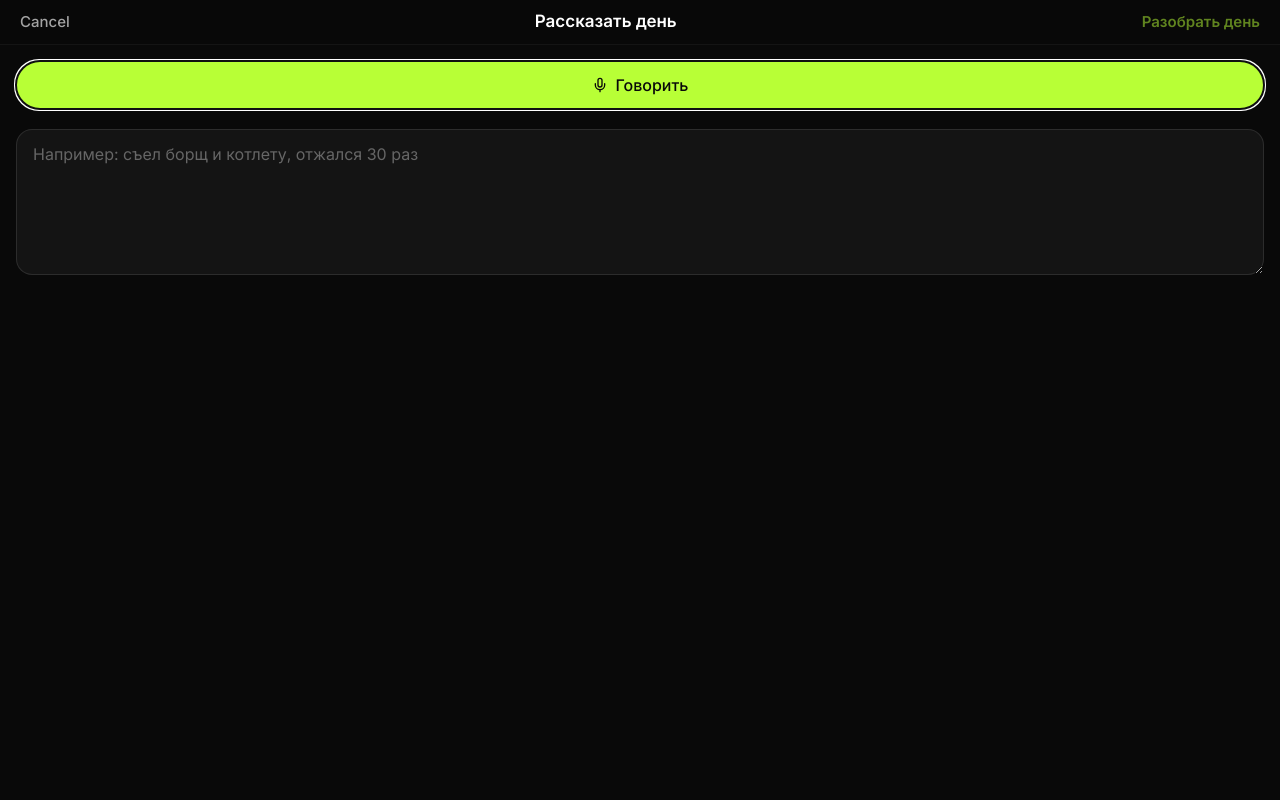
Scenario: reviewing and writing a dictated day › writes nothing once the only row is unchecked
Click the button with aria-label "Начать диктовку" at (640, 85), box [16, 61, 1264, 109]
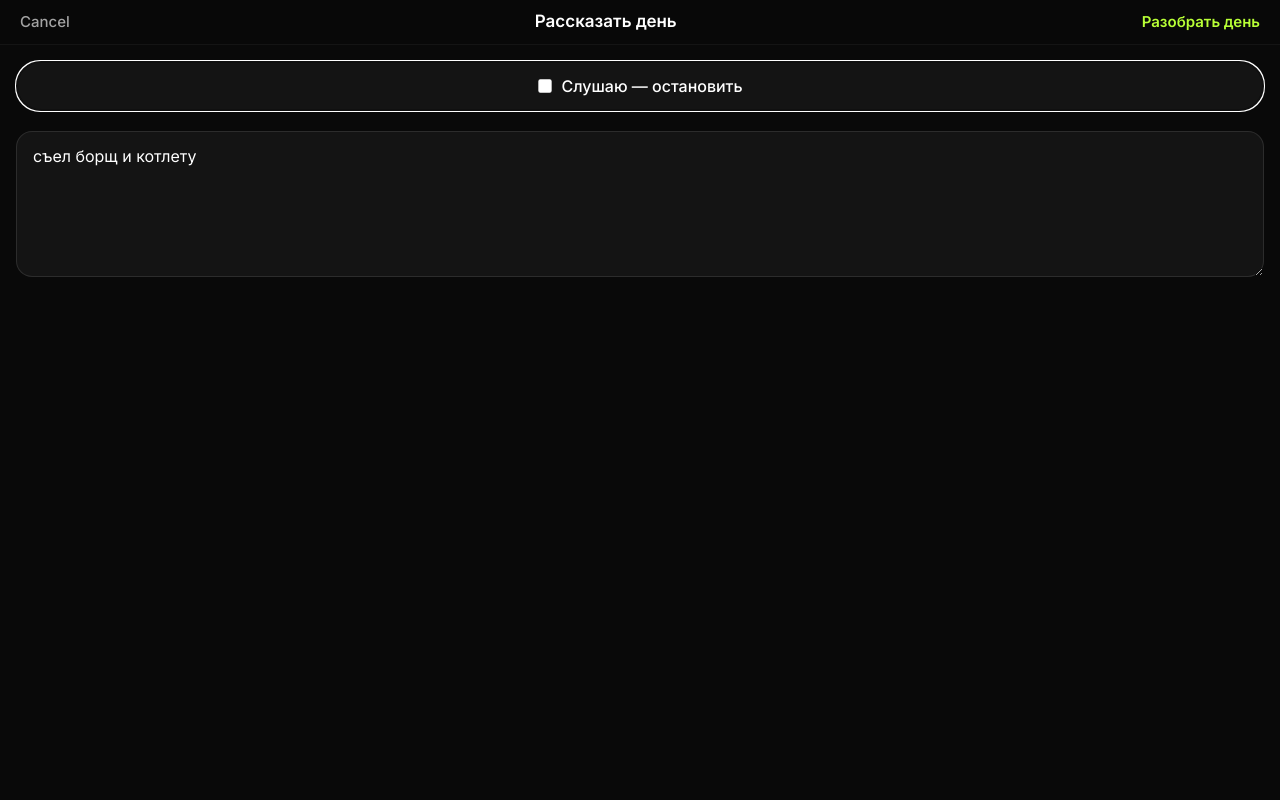
Click the button "Разобрать день" at (1201, 22), box [1134, 0, 1268, 44]
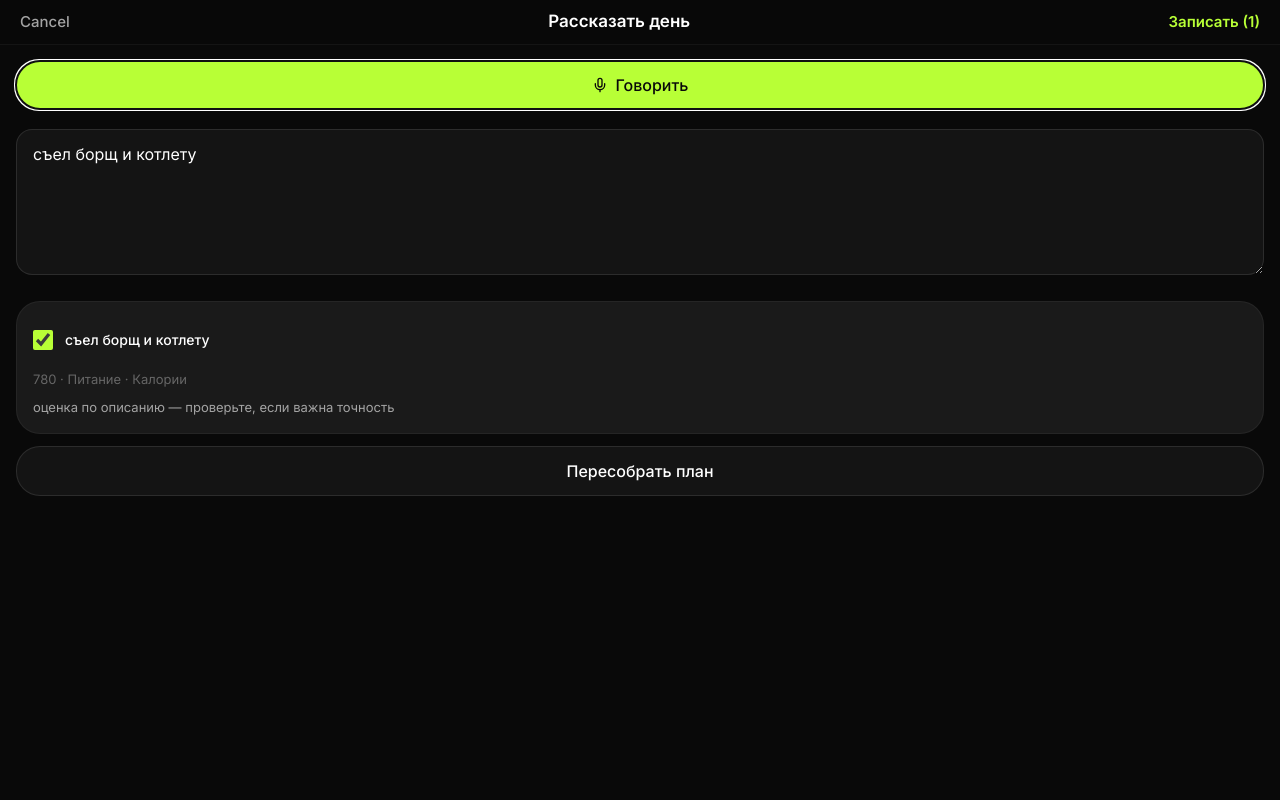
Click the checkbox labelled "съел борщ и котлету" at (43, 340), box [33, 330, 53, 350]
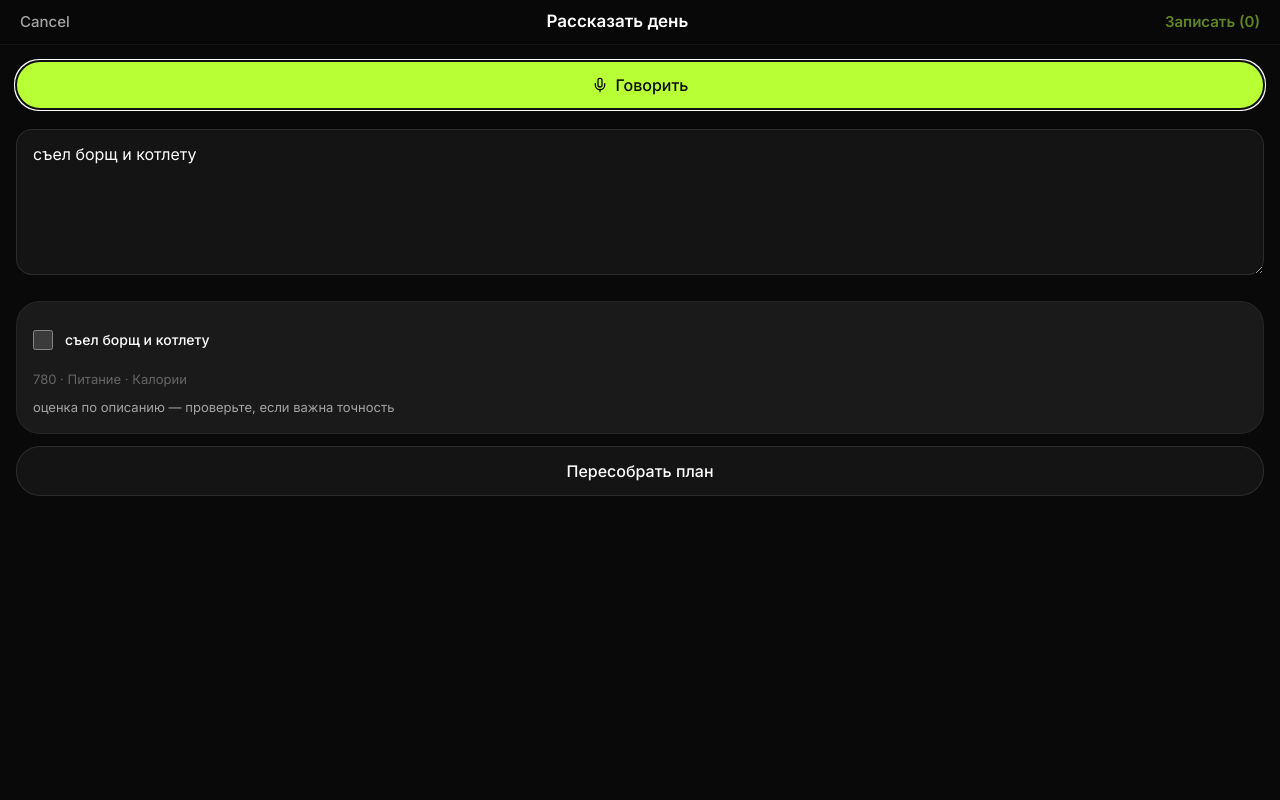
Check: the button "Записать (0)" is disabled, box [1157, 0, 1268, 44]
